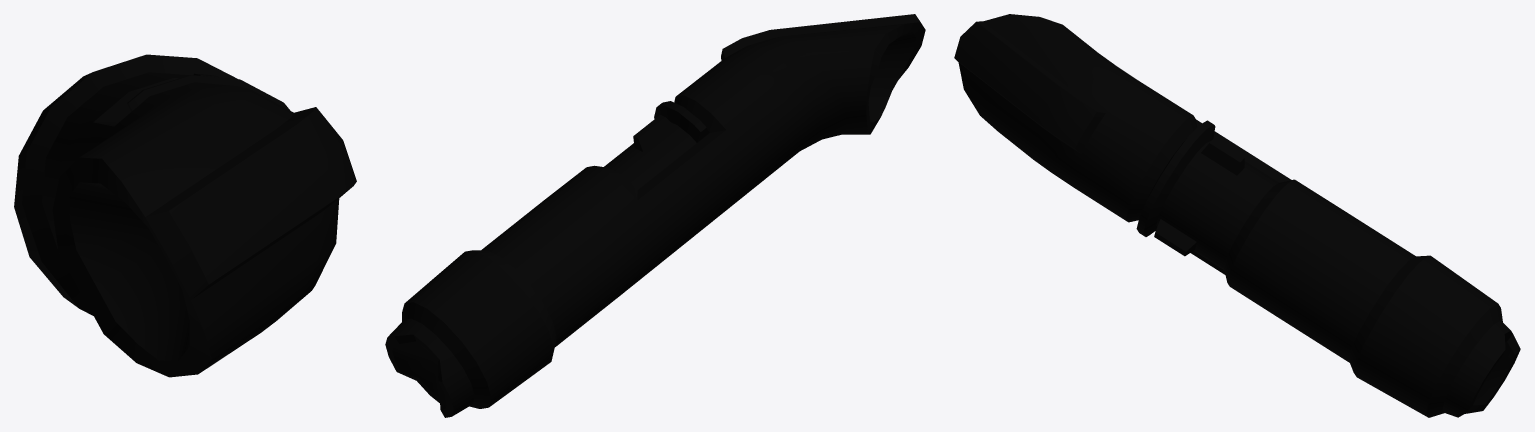
File: ama_collectable_scrap_11.glb
The picture shows the model from 3 angles, left to right: view 1: azimuth 30°, elevation 25°; view 2: azimuth 150°, elevation 25°; view 3: azimuth 270°, elevation 25°; orthographic projection. The views are drawn at different scales.
Parts seen in each view (by area): view 1: shipScrapPart_11; view 2: shipScrapPart_11; view 3: shipScrapPart_11.
Boxes of the visible parts, x1=… form: shipScrapPart_11: x1=14, y1=54, x2=356, y2=377; shipScrapPart_11: x1=385, y1=14, x2=925, y2=417; shipScrapPart_11: x1=954, y1=14, x2=1520, y2=417.
Size of the model in its own units: 0.8667 by 0.8011 by 1.44.
2 materials, 2 textured.
